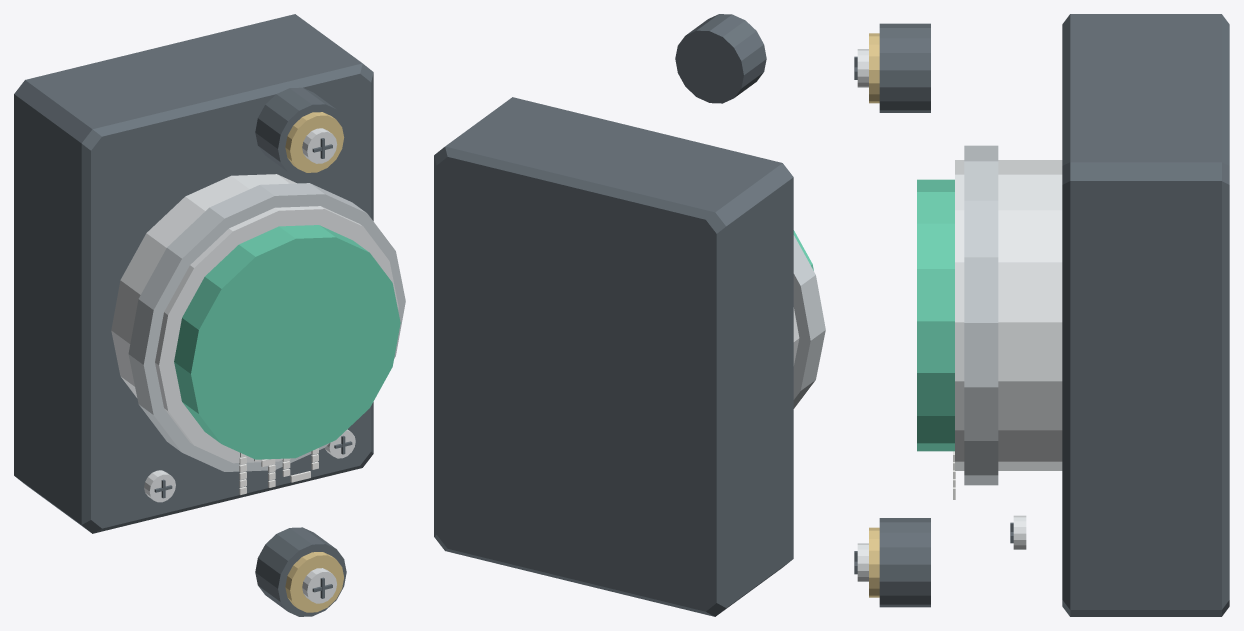
The model's file is pushButtonNO.glb.
The picture shows the model from 3 angles, left to right: view 1: azimuth 30°, elevation 25°; view 2: azimuth 150°, elevation 25°; view 3: azimuth 270°, elevation 25°; orthographic projection. The views are drawn at different scales.
Parts seen in each view (by area): view 1: pushButtonNO-preview; view 2: pushButtonNO-preview; view 3: pushButtonNO-preview.
Boxes of the visible parts, left/top/right/bottom form: pushButtonNO-preview: left=14, top=14, right=405, bottom=616; pushButtonNO-preview: left=434, top=14, right=825, bottom=616; pushButtonNO-preview: left=854, top=14, right=1229, bottom=616.
Size of the model in its own units: 1.33 by 2.23 by 1.32.
